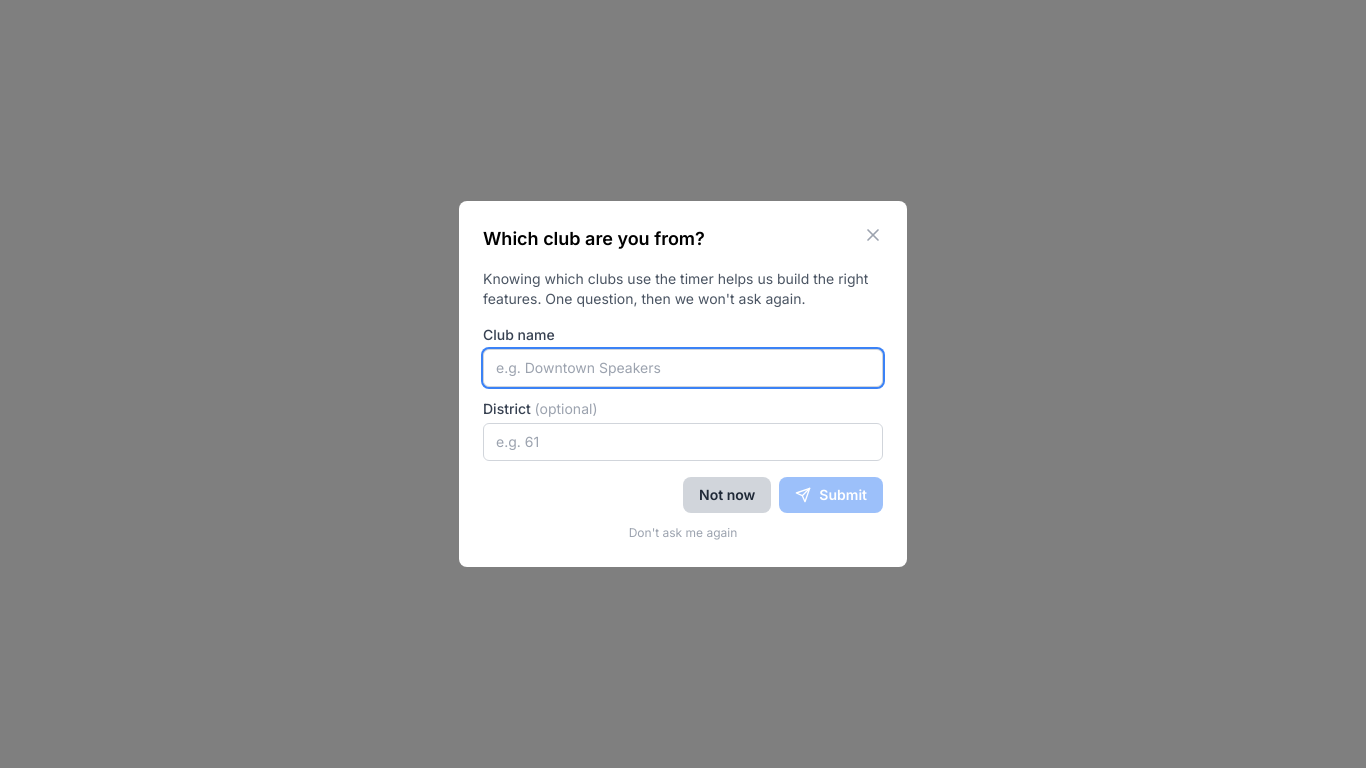
Test: ClubSurveyModal › reports the club as an event and a person property
Type "  Downtown Speakers  " into the field labelled "Club name" at (683, 368), box [483,349,883,387]
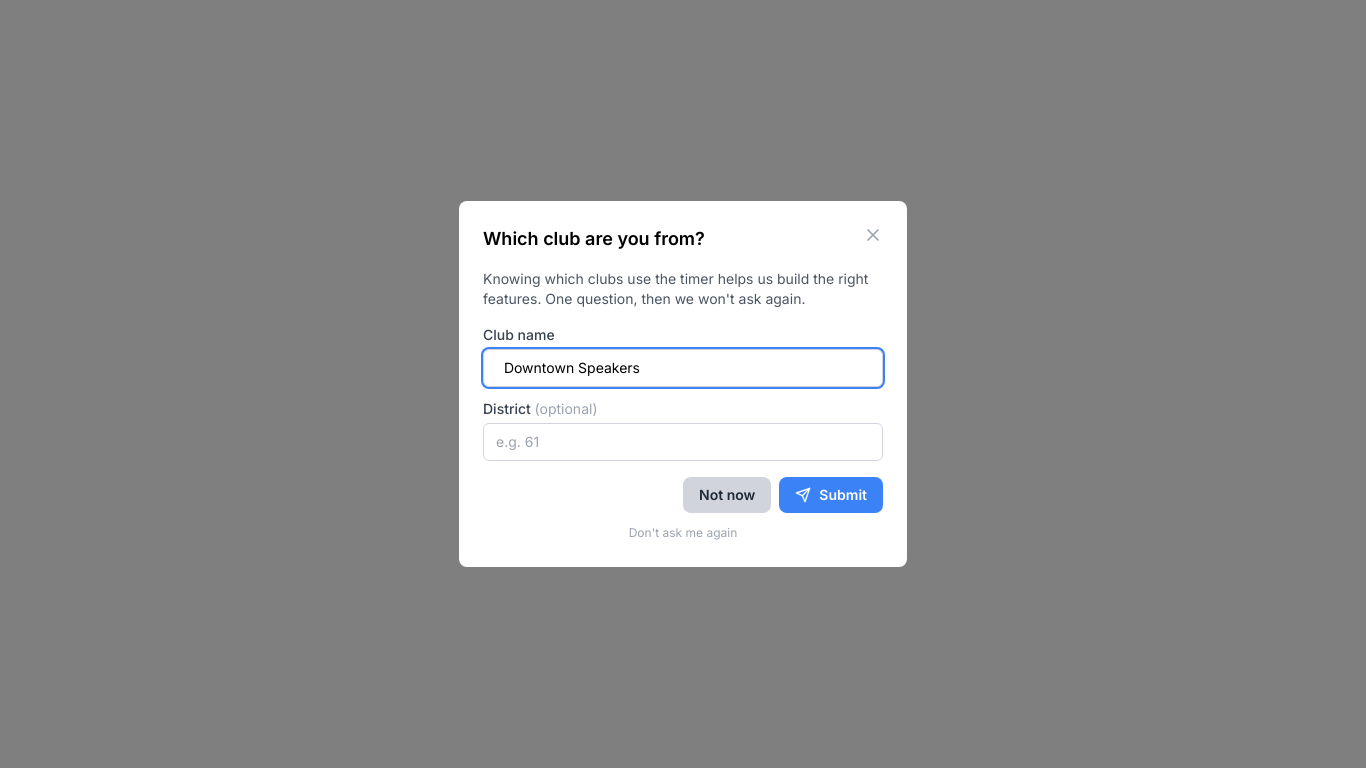
Type "61" into the field labelled "District (optional)" at (683, 442), box [483,423,883,461]
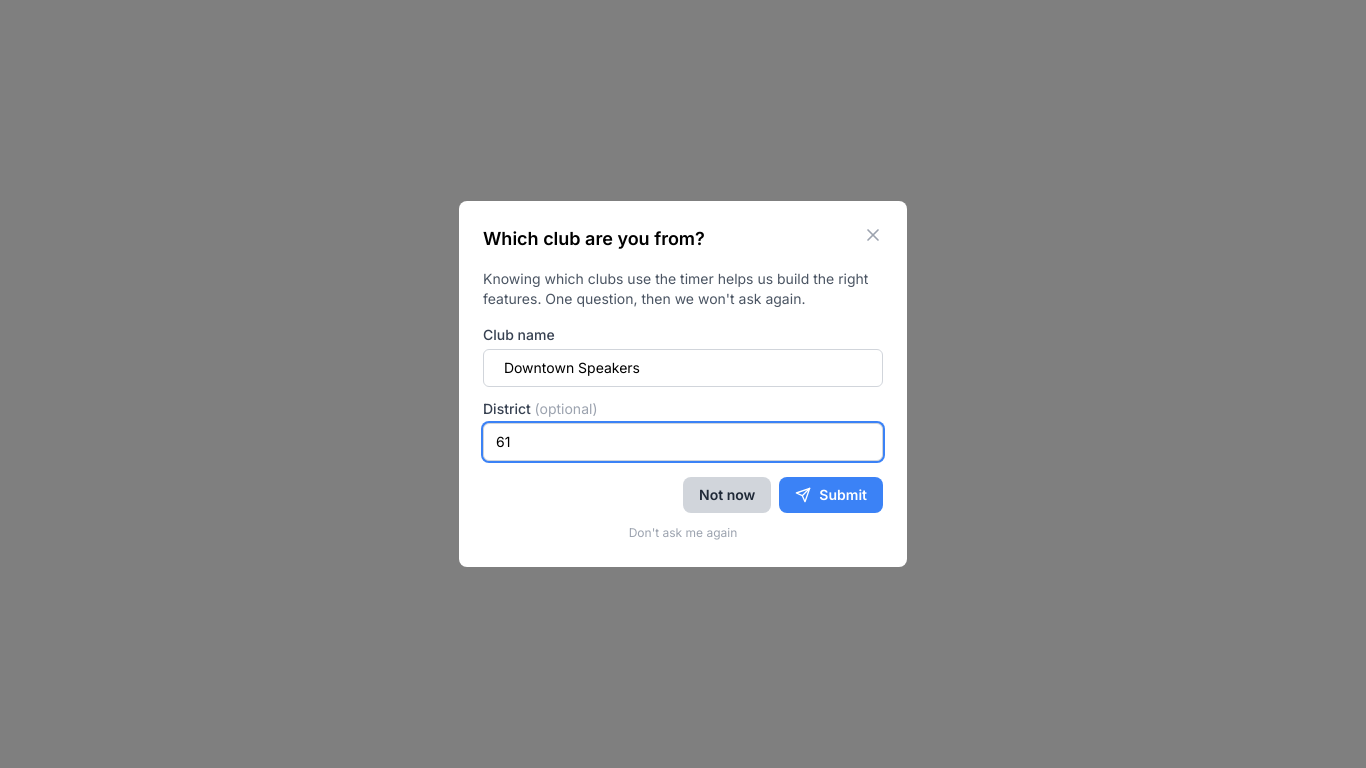
Click the button "Submit" at (831, 495), box [779,477,883,513]
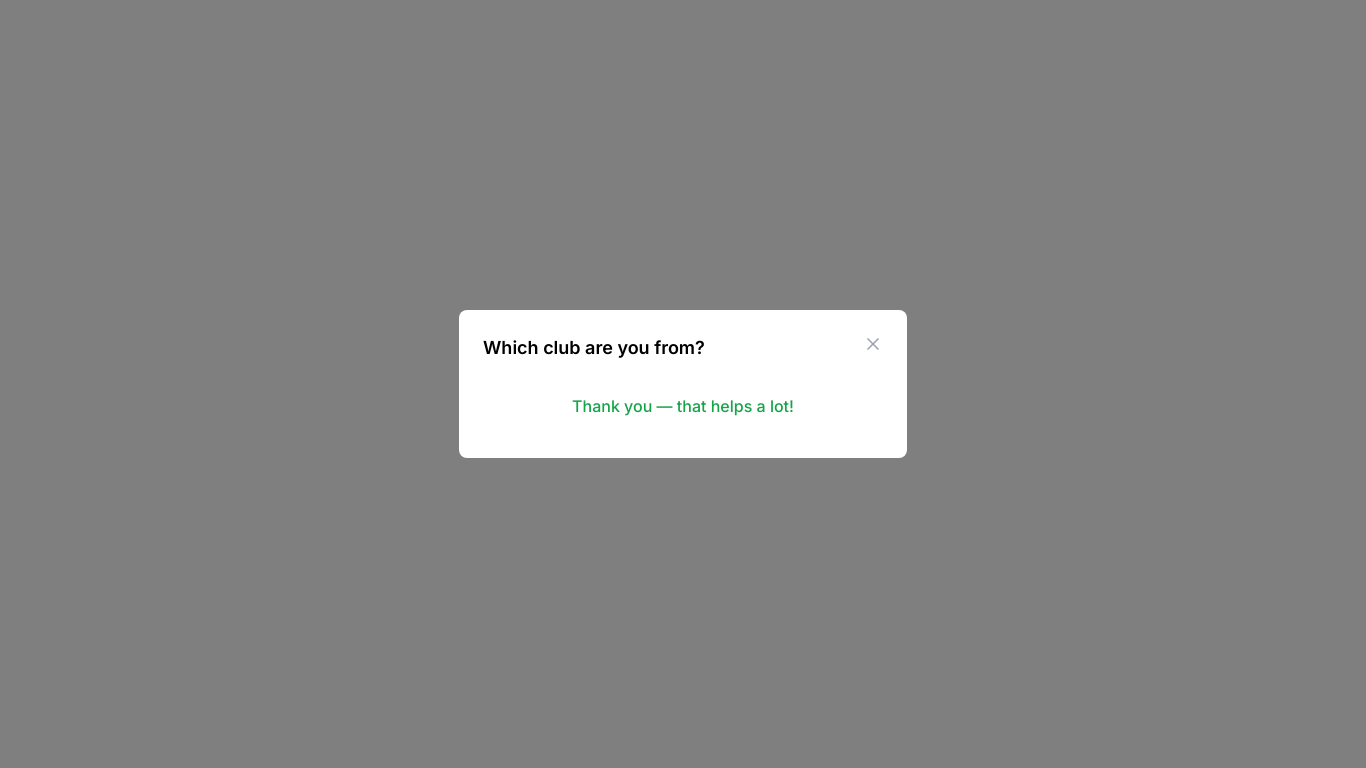
Expected: the text "Thank you — that helps a lot!" is shown, [572,396,794,416]
